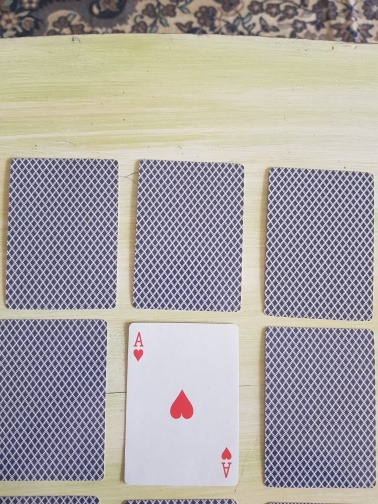ace: (122, 320, 241, 488)
